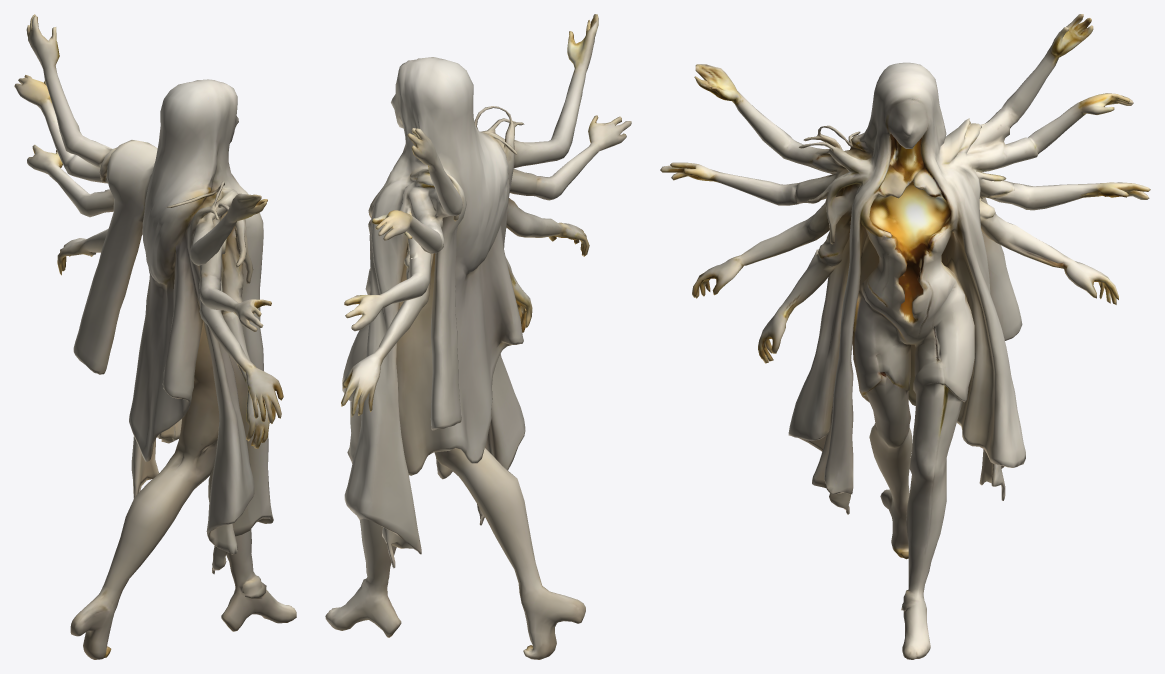
3 renders of one model, left to right at view 1: azimuth 30°, elevation 25°; view 2: azimuth 150°, elevation 25°; view 3: azimuth 270°, elevation 25°, orthographic. The views are drawn at different scales.
Parts seen in each view (by area): view 1: tripo_node_49343542-0e54-4394-b63f-ca166b0e019d; view 2: tripo_node_49343542-0e54-4394-b63f-ca166b0e019d; view 3: tripo_node_49343542-0e54-4394-b63f-ca166b0e019d.
Boxes of the visible parts, x1,y1,x2,y2 form: tripo_node_49343542-0e54-4394-b63f-ca166b0e019d: (14, 14, 296, 659); tripo_node_49343542-0e54-4394-b63f-ca166b0e019d: (325, 14, 631, 659); tripo_node_49343542-0e54-4394-b63f-ca166b0e019d: (660, 14, 1150, 659).
Size of the model in its own units: 0.4247 by 1 by 0.7847.
Materials: 1 (1 with a texture image).
